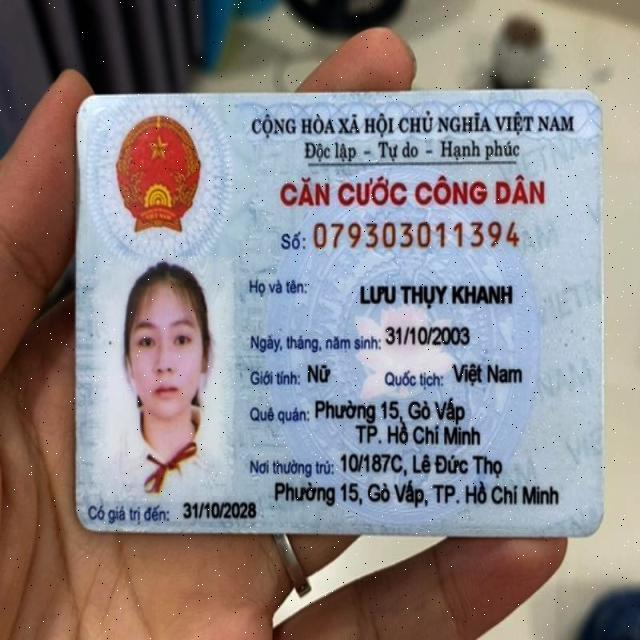current_place: (272, 478, 563, 509), (336, 451, 507, 480)
dob: (382, 318, 478, 350)
expire_date: (181, 501, 259, 519)
gender: (306, 362, 335, 387)
id: (311, 217, 518, 254)
name: (360, 279, 521, 310)
nationality: (450, 359, 524, 389)
origin_place: (313, 394, 469, 426), (350, 421, 486, 452)
